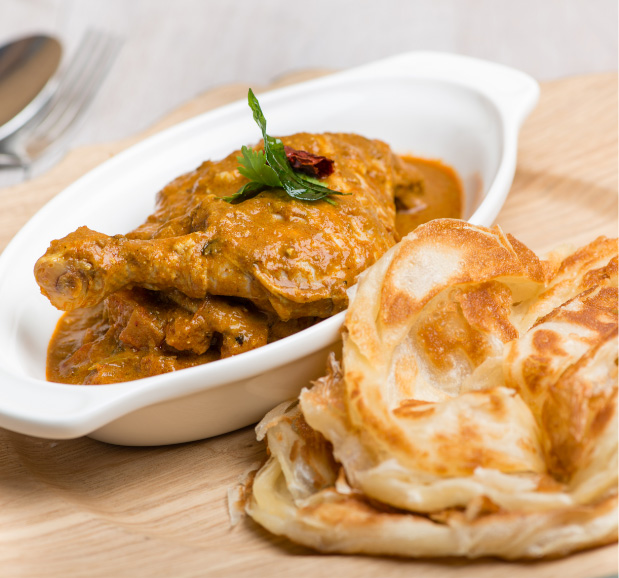Prata: (234, 209, 618, 559)
